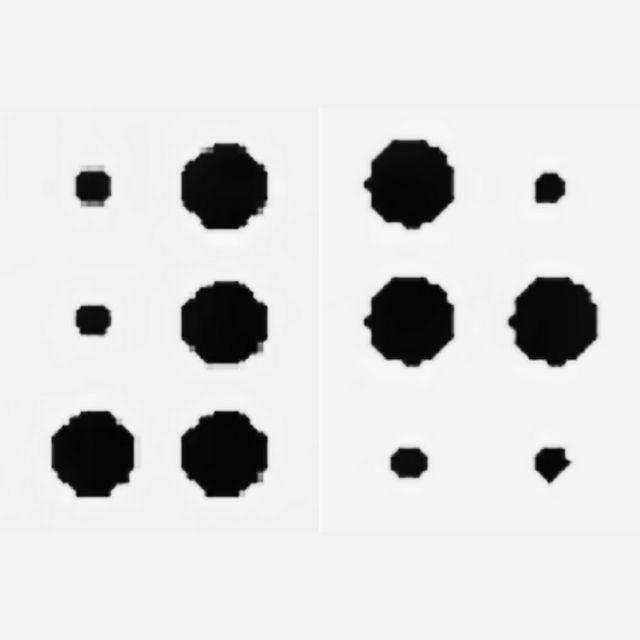8: (365, 139, 595, 494)
number: (49, 144, 272, 498)
